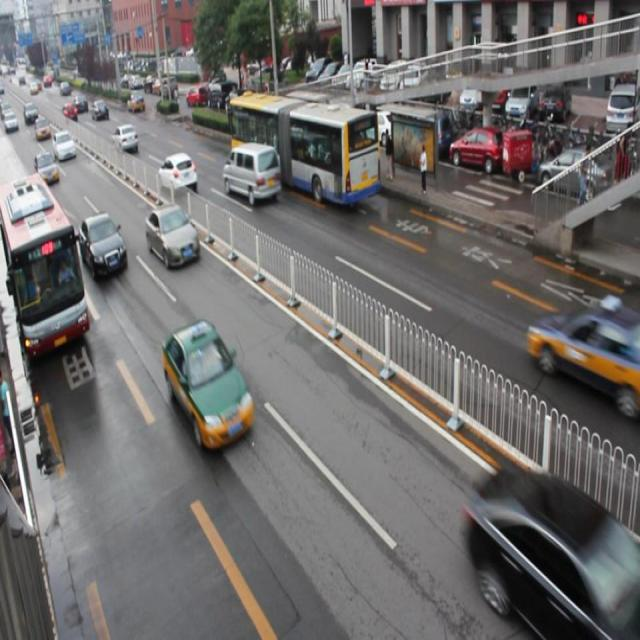car: (466, 464, 640, 640), (526, 298, 640, 404), (162, 321, 253, 452), (145, 207, 200, 268), (81, 210, 126, 279), (159, 151, 198, 193), (34, 150, 59, 185), (113, 125, 137, 152)
truck: (222, 140, 284, 207)
van: (230, 88, 380, 208), (1, 174, 89, 360)
